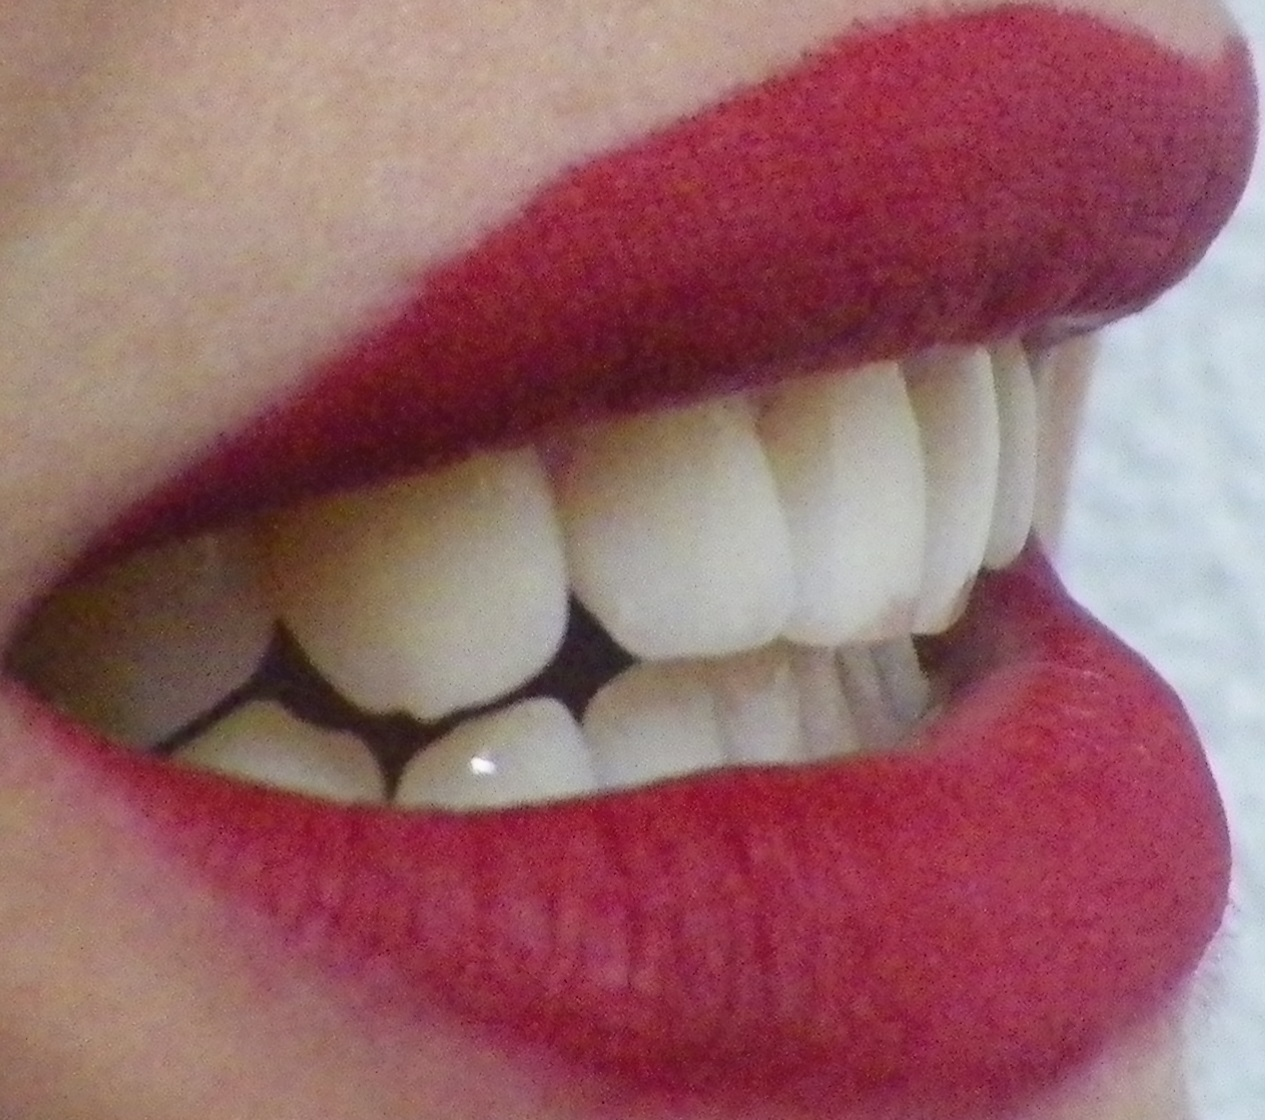boca: (27, 317, 1046, 808)
